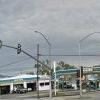Traffic light: (13, 34, 27, 69)
